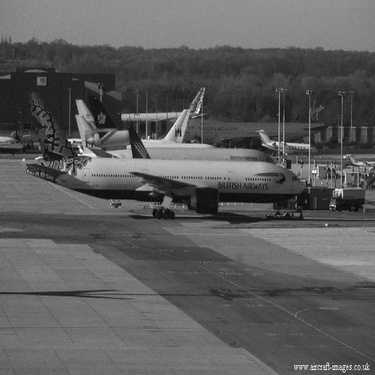airplane: (20, 113, 319, 230), (61, 75, 291, 161)
